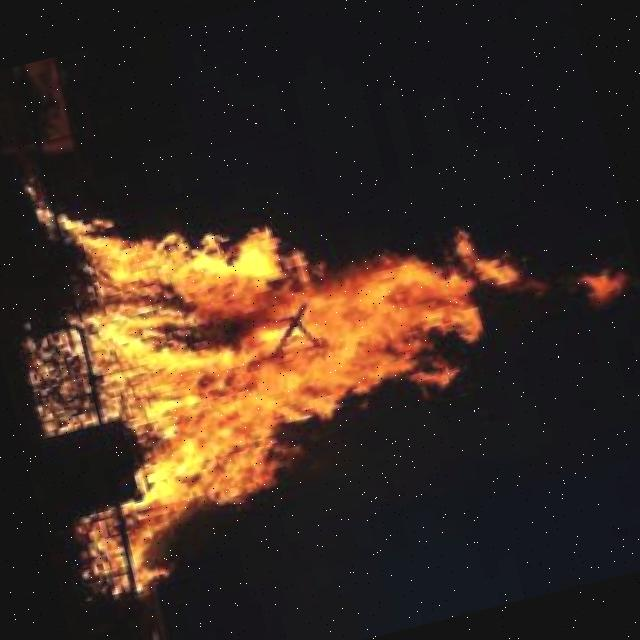fire: (42, 83, 640, 544)
